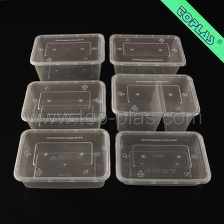plastic_box: (7, 122, 115, 193), (110, 124, 215, 193), (105, 70, 206, 140), (14, 75, 109, 137), (104, 30, 190, 88), (25, 28, 109, 86)
